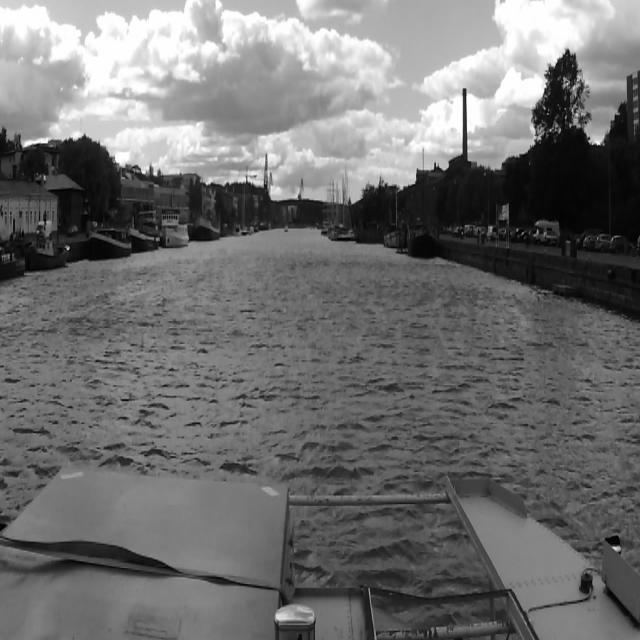ship: (380, 184, 404, 251), (29, 235, 69, 268), (129, 208, 161, 249), (160, 206, 190, 247), (83, 231, 126, 258), (408, 226, 438, 258), (192, 212, 222, 239), (353, 225, 388, 243), (3, 254, 24, 278)
